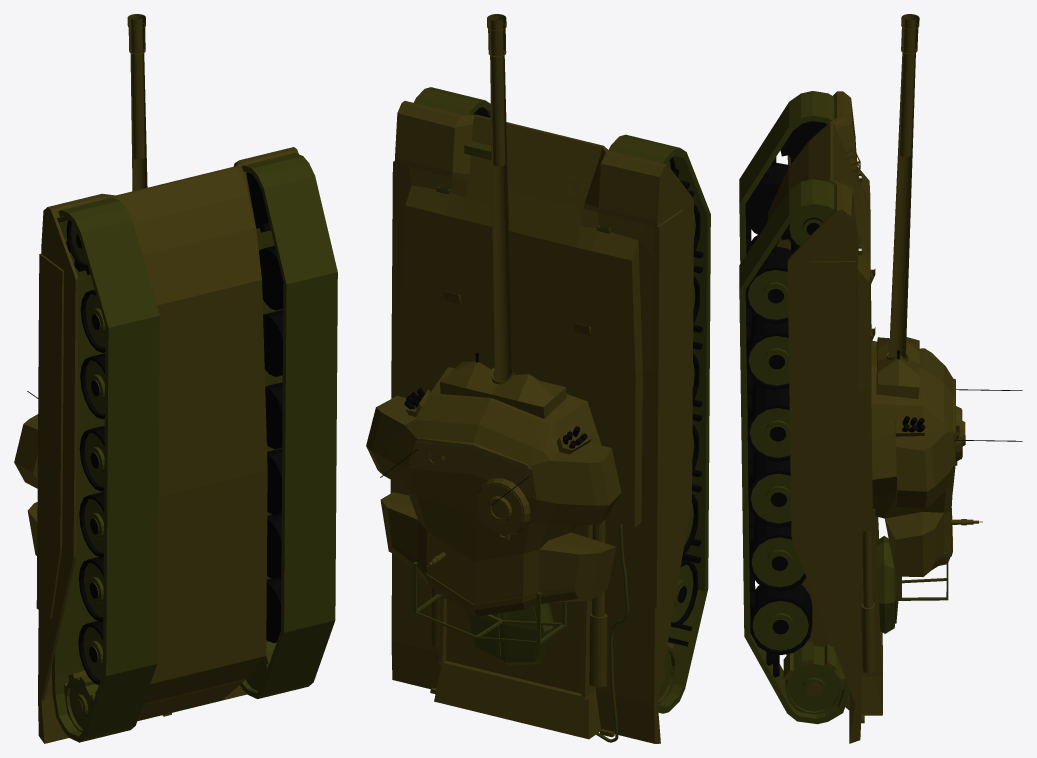
Rendered from CENTURIONv1.fbx.
The picture shows the model from 3 angles, left to right: view 1: azimuth 30°, elevation 25°; view 2: azimuth 150°, elevation 25°; view 3: azimuth 270°, elevation 25°; orthographic projection. The views are drawn at different scales.
Visible parts, largest first — view 1: wheels4, turret; view 2: wheels4, turret; view 3: wheels4, turret.
Boxes of the visible parts, x1,y1,x2,y2 form: wheels4: (36, 147, 337, 743); turret: (14, 14, 147, 555); wheels4: (390, 87, 710, 743); turret: (366, 14, 621, 644); wheels4: (739, 91, 898, 743); turret: (871, 14, 1022, 600).
Bounding box in the file's own units: 116 × 299 × 114.
